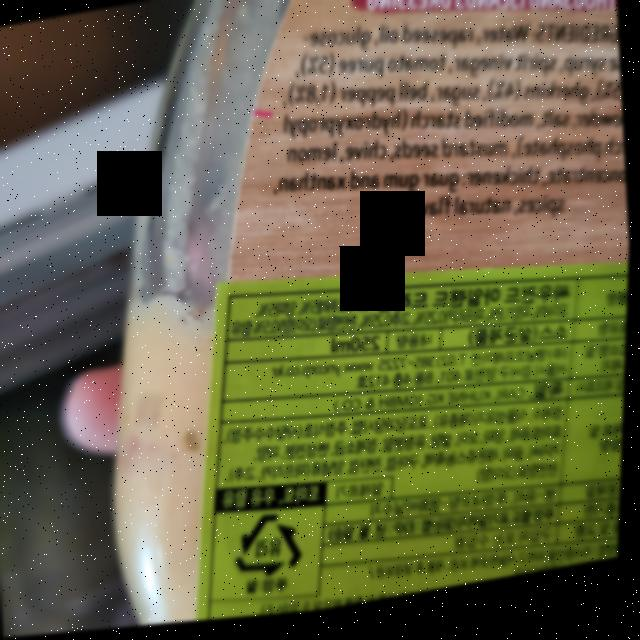Glass: (234, 511, 309, 587)
